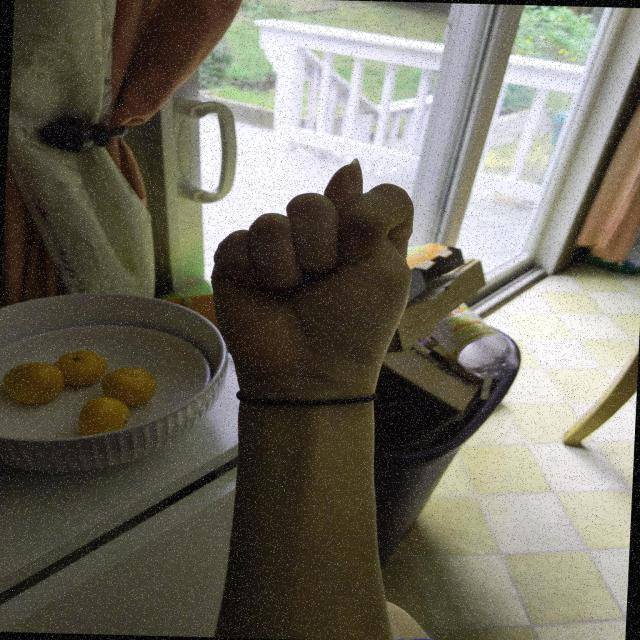T: (201, 152, 431, 401)
